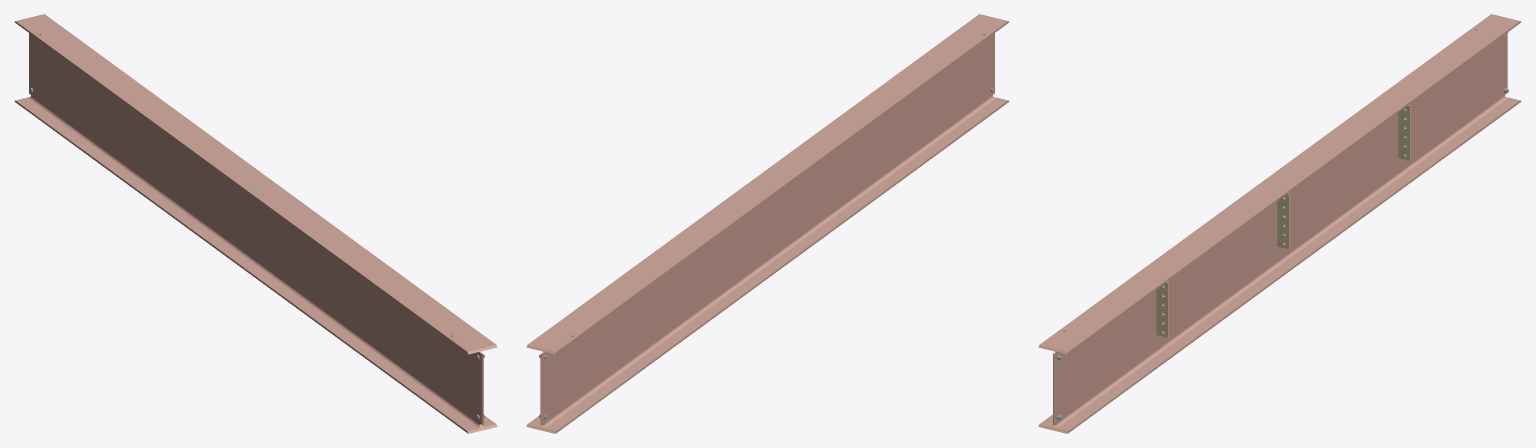
3 views of the same model, side by side, from view 1: azimuth 30°, elevation 25°; view 2: azimuth 150°, elevation 25°; view 3: azimuth 330°, elevation 25° (orthographic).
Visible parts, largest first — view 1: product-3123b341-5e53-45f9-b126-c7c1c633f8cb-body; view 2: product-3123b341-5e53-45f9-b126-c7c1c633f8cb-body; view 3: product-3123b341-5e53-45f9-b126-c7c1c633f8cb-body, product-8d1fc557-de2f-4fb9-b534-b514cc1c20a5-body, product-80afef30-76d3-4992-a56f-d313c48298fa-body, product-939657f1-8b77-4d5b-b1ae-24a7ae352634-body.
Part boxes in pixels (x1=…): product-3123b341-5e53-45f9-b126-c7c1c633f8cb-body: x1=14, y1=14, x2=497, y2=433; product-3123b341-5e53-45f9-b126-c7c1c633f8cb-body: x1=526, y1=14, x2=1009, y2=433; product-3123b341-5e53-45f9-b126-c7c1c633f8cb-body: x1=1038, y1=14, x2=1521, y2=433; product-8d1fc557-de2f-4fb9-b534-b514cc1c20a5-body: x1=1398, y1=105, x2=1410, y2=160; product-80afef30-76d3-4992-a56f-d313c48298fa-body: x1=1156, y1=282, x2=1168, y2=337; product-939657f1-8b77-4d5b-b1ae-24a7ae352634-body: x1=1277, y1=193, x2=1289, y2=249.
Bounding box in the file's own units: 0.254 × 0.6782 × 6.86.
